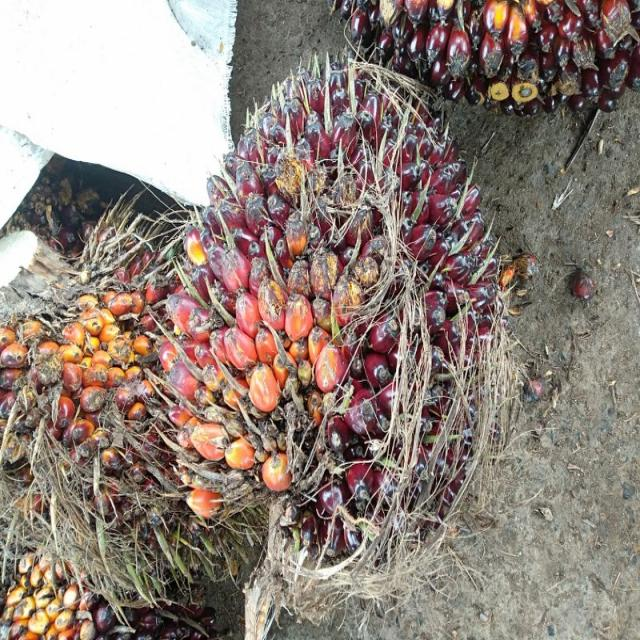fraksi 1: (158, 61, 500, 554)
